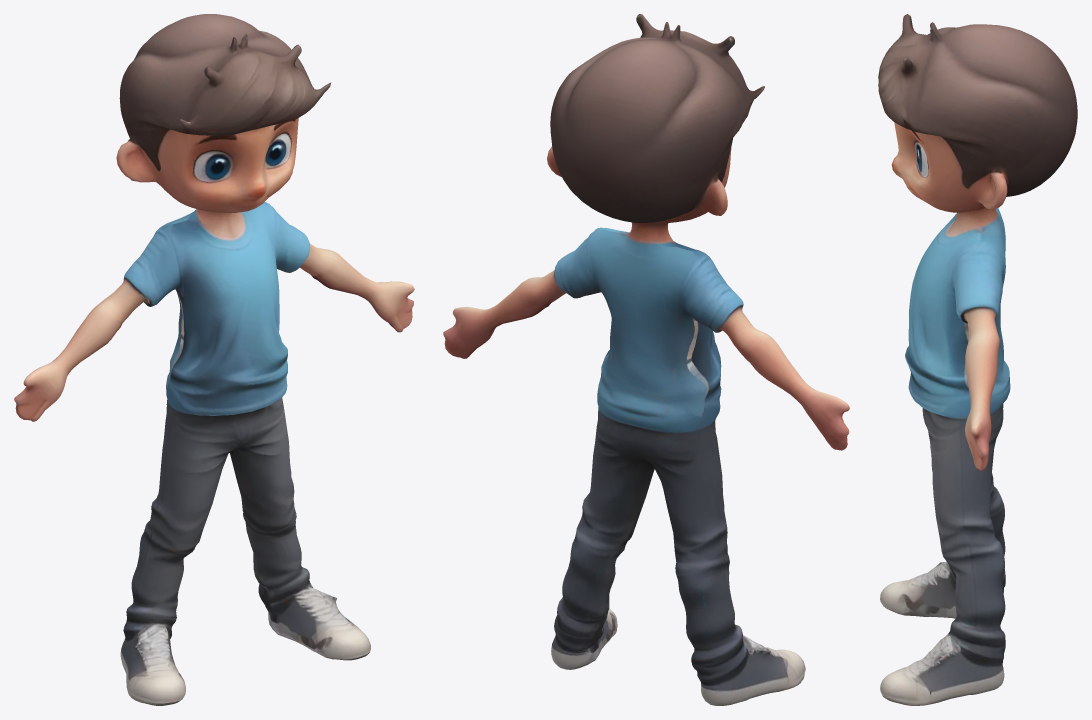
The model's file is kid.glb.
The picture shows the model from 3 angles, left to right: view 1: azimuth 30°, elevation 25°; view 2: azimuth 150°, elevation 25°; view 3: azimuth 270°, elevation 25°; orthographic projection. The views are drawn at different scales.
Parts seen in each view (by area): view 1: Object_5; view 2: Object_5; view 3: Object_5.
Part boxes in pixels (<box>): Object_5: <box>14,14,414,705</box>; Object_5: <box>443,14,849,705</box>; Object_5: <box>878,14,1077,705</box>.
Bounding box in the file's own units: 1.24 × 1.88 × 0.5415.
1 material, 1 textured.
